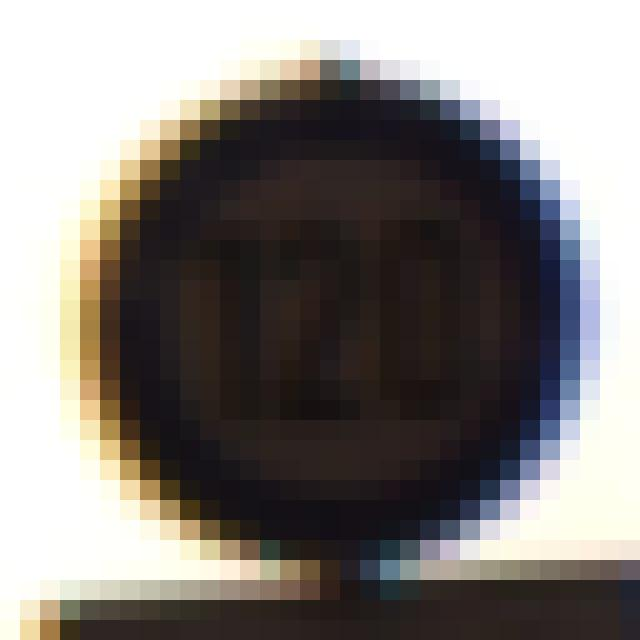SPEED LIMIT 120: (104, 105, 578, 544)
